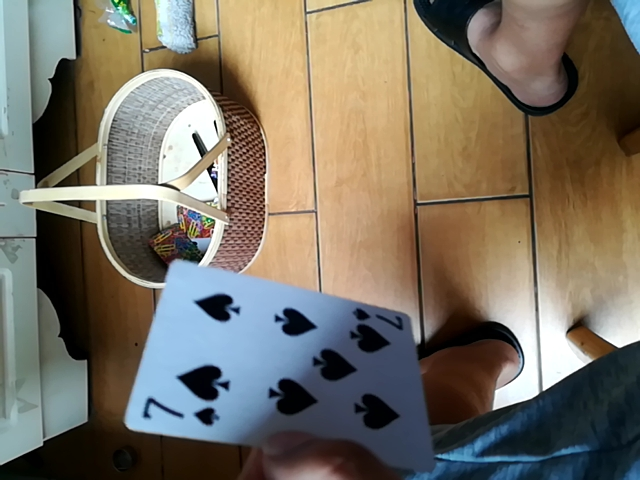ht 7: (128, 262, 431, 466)
